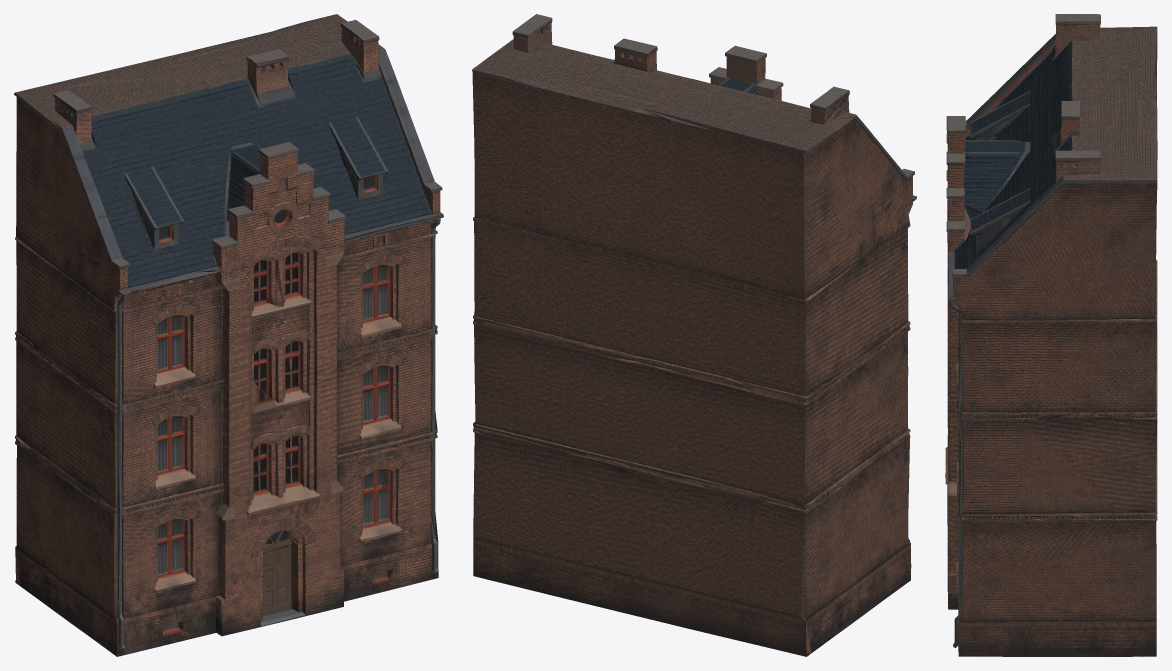
The model's file is colony_house_c2_risalit.glb.
3 renders of one model, left to right at view 1: azimuth 30°, elevation 25°; view 2: azimuth 150°, elevation 25°; view 3: azimuth 270°, elevation 25°, orthographic. The views are drawn at different scales.
Size of the model in its own units: 1.27 by 1.9 by 0.739.
1 material, 1 textured.
